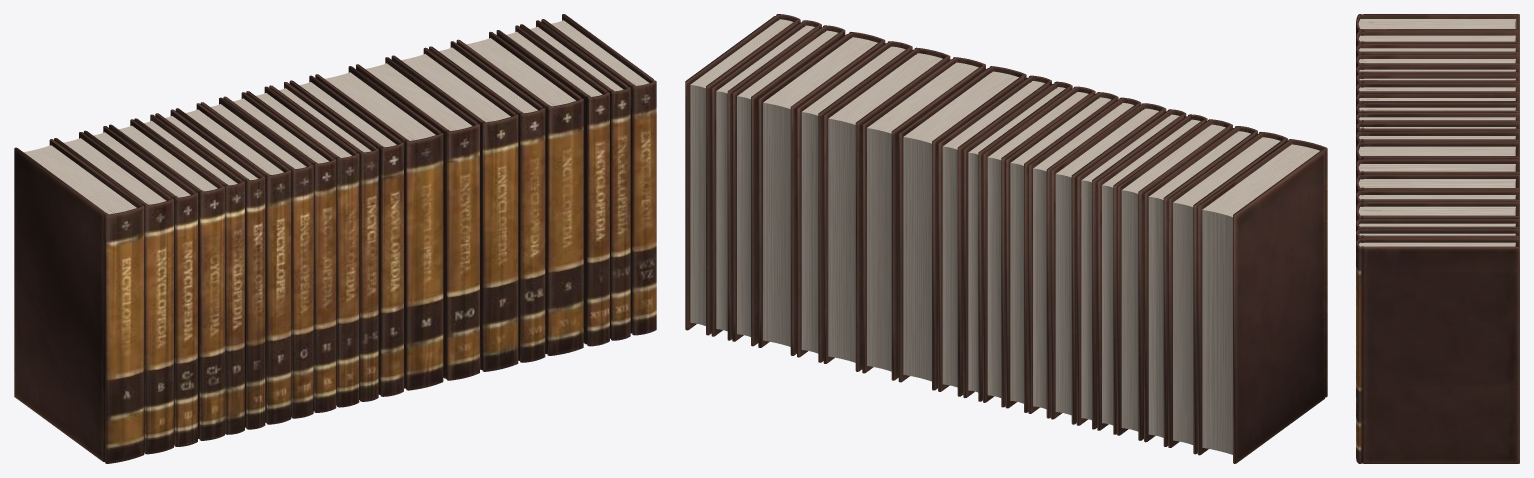
The model's file is book.glb.
3 views of the same model, side by side, from view 1: azimuth 30°, elevation 25°; view 2: azimuth 150°, elevation 25°; view 3: azimuth 270°, elevation 25° (orthographic). The views are drawn at different scales.
Visible parts, largest first — view 1: book_encyclopedia_set_01_book01; view 2: book_encyclopedia_set_01_book01; view 3: book_encyclopedia_set_01_book01.
Boxes of the visible parts, box(x1,y1,x2,y2) form: book_encyclopedia_set_01_book01: box(14, 14, 656, 463); book_encyclopedia_set_01_book01: box(685, 14, 1327, 463); book_encyclopedia_set_01_book01: box(1356, 14, 1519, 463).
Bounding box in the file's own units: 0.5513 × 0.2374 × 0.1631.
2 materials, 2 textured.
